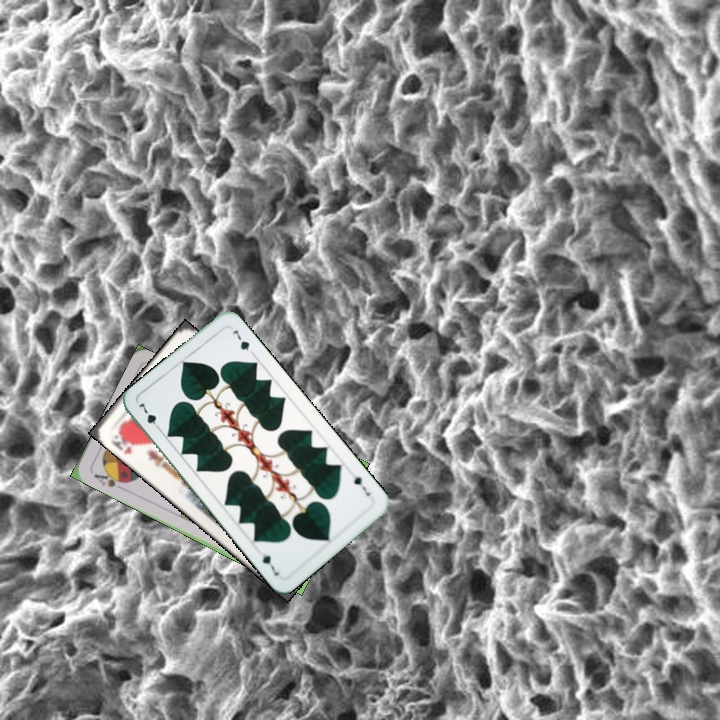G7: (135, 398, 164, 434), (348, 468, 373, 499)
HK: (106, 427, 137, 457)
SA: (90, 467, 129, 493)
